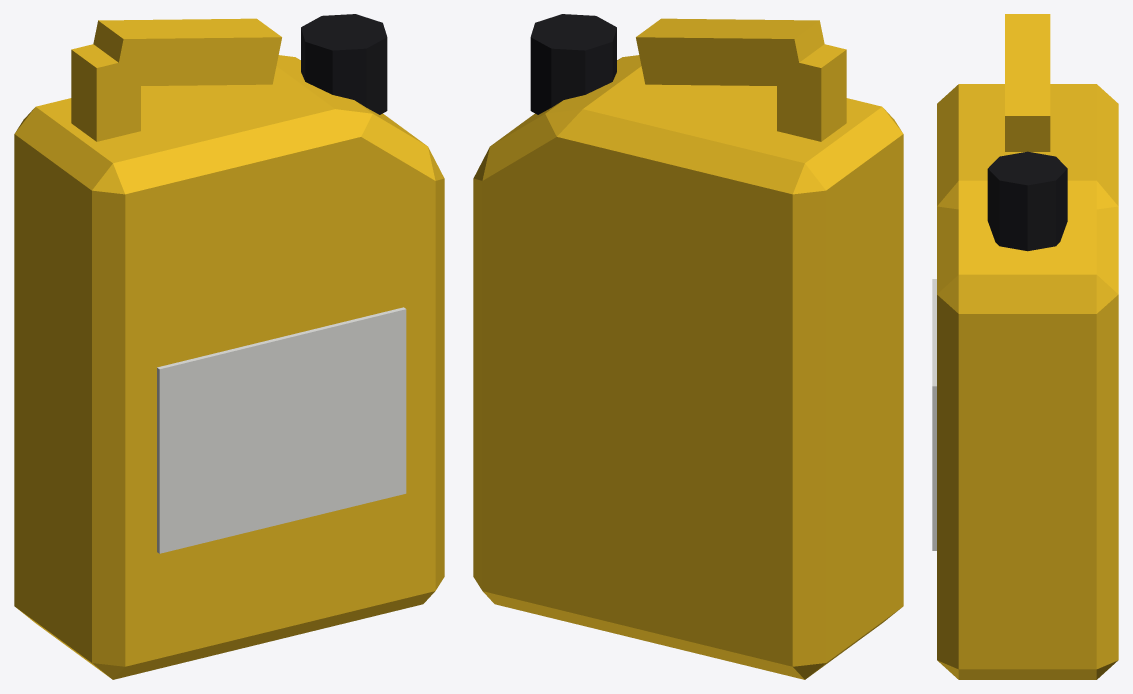
The model's file is Oil_Bottle.fbx.
3 views of the same model, side by side, from view 1: azimuth 30°, elevation 25°; view 2: azimuth 150°, elevation 25°; view 3: azimuth 270°, elevation 25° (orthographic). The views are drawn at different scales.
Visible parts, largest first — view 1: Oil_Bottle; view 2: Oil_Bottle; view 3: Oil_Bottle.
Boxes of the visible parts, box(x1,y1,x2,y2) form: Oil_Bottle: box(14, 14, 444, 679); Oil_Bottle: box(473, 14, 903, 679); Oil_Bottle: box(932, 14, 1118, 679).
Size of the model in its own units: 0.2 by 0.3322 by 0.1025.
1 material, 1 textured.
